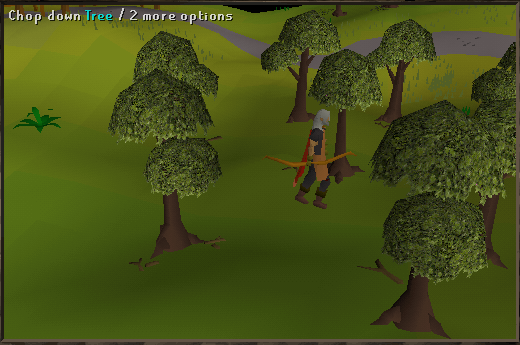Tree: (371, 132, 494, 327), (108, 80, 219, 252), (262, 5, 333, 116), (322, 49, 368, 181), (376, 23, 427, 127)
